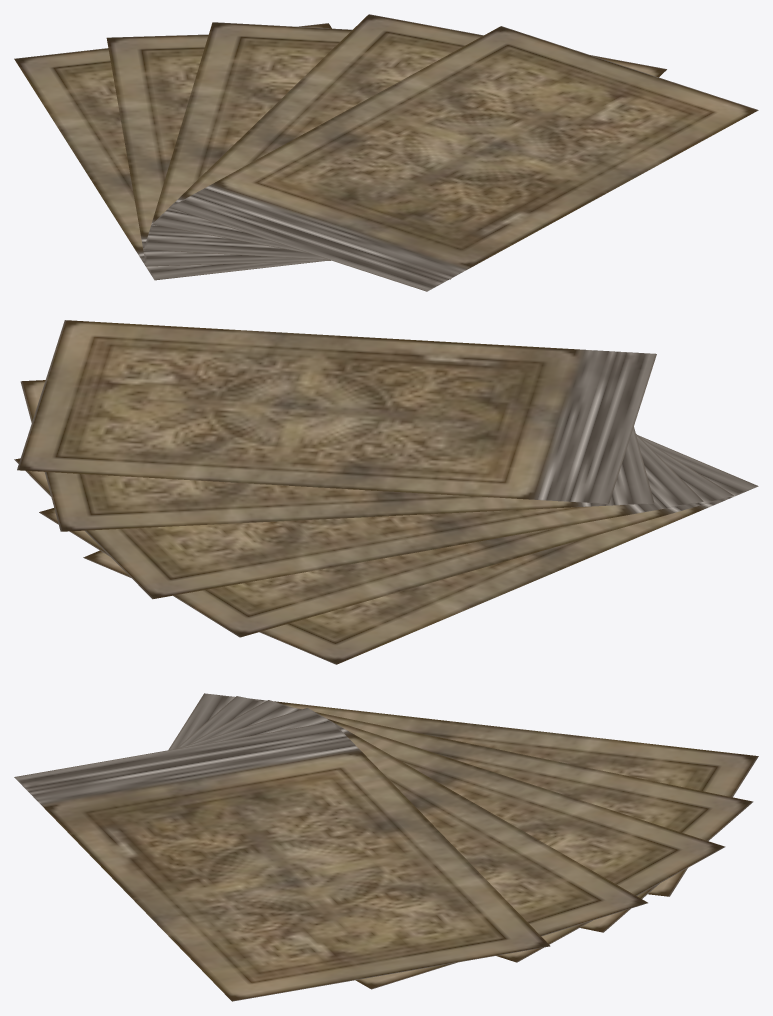
The model's file is cards_5_high.fbx.
3 renders of one model, top to bottom at view 1: azimuth 30°, elevation 25°; view 2: azimuth 150°, elevation 25°; view 3: azimuth 270°, elevation 25°, orthographic. The views are drawn at different scales.
Visible parts, largest first — view 1: card_5, card_3, card_4, card_2, card_1; view 2: card_5, card_3, card_4, card_2, card_1; view 3: card_5, card_3, card_4, card_1, card_2.
Part boxes in pixels (box(x1,y1,x2,y2)): card_5: box(169, 26, 758, 291); card_3: box(143, 22, 352, 259); card_4: box(152, 14, 666, 279); card_2: box(106, 34, 330, 266); card_1: box(14, 23, 331, 280); card_5: box(17, 320, 656, 503); card_3: box(14, 434, 703, 599); card_4: box(20, 380, 654, 531); card_2: box(39, 436, 733, 637); card_1: box(83, 435, 758, 664); card_5: box(14, 722, 550, 1001); card_3: box(187, 700, 725, 962); card_4: box(176, 708, 647, 989); card_1: box(168, 693, 758, 896); card_2: box(177, 696, 753, 932).
Bounding box in the file's own units: 54.72 × 0.8394 × 54.05.
Materials: 1 (1 with a texture image).
